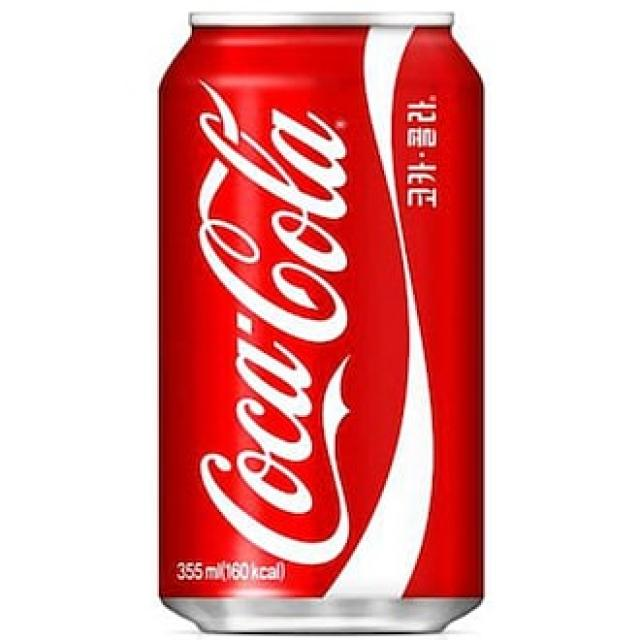Coca-Cola: (152, 7, 488, 638)
